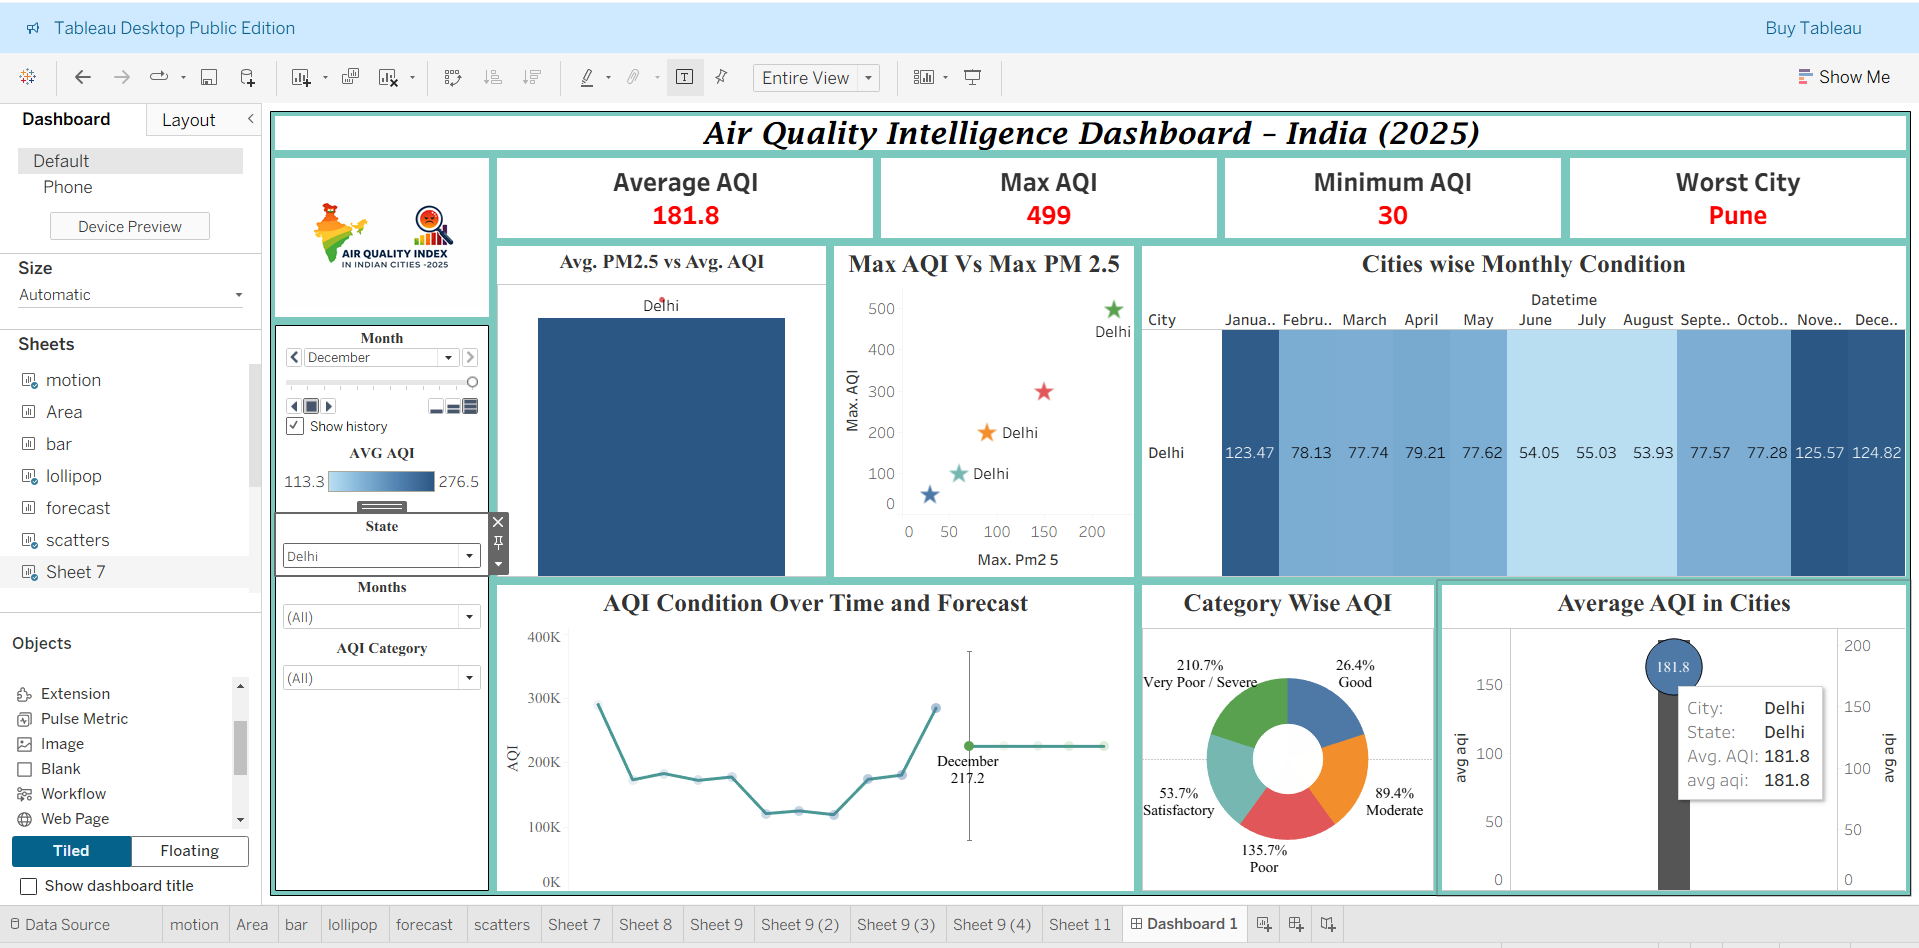

This screenshot's page, from the dashboard's own definition file:
{"tool":"tableau","page":{"name":"Dashboard 1","canvas":[1000,1000],"units":"permille","ordinal":0},"visuals":[{"type":"title","box":[5.4,11.2,989.1,52.4]},{"type":"image","param":"Image/ChatGPT Image Apr 19, 2026, 03_58_22 PM.png","box":[5.4,63.7,133.8,209.1]},{"type":"worksheet","title":"Sheet 9","mark":"Automatic","box":[139.2,63.7,232.1,109.9]},{"type":"worksheet","title":"Sheet 9 (2)","mark":"Automatic","box":[371.3,63.7,207.7,109.9]},{"type":"worksheet","title":"Sheet 9 (4)","mark":"Text","box":[579,63.7,207.8,109.9]},{"type":"worksheet","title":"Sheet 9 (3)","mark":"Text","box":[786.8,63.7,207.8,109.9]},{"type":"worksheet","title":"Sheet 7","mark":"Automatic","rows":["PM2_5","AQI"],"cols":["state"],"box":[139.2,173.6,203.7,423.6]},{"type":"worksheet","title":"scatters","mark":"Automatic","rows":["AQI"],"cols":["PM2_5"],"box":[343,173.6,185.7,423.6]},{"type":"worksheet","title":"Sheet 8","mark":"Square","rows":["city"],"cols":["datetime"],"box":[528.6,173.6,465.9,423.6]},{"type":"currpage","title":"motion","box":[8.4,279,127.8,143.6]},{"type":"legend","title":"Sheet 8","param":"[federated.19svdyv0bliaqp168vqvb1hg3psa].[usr:Calculation_7468094104119091200:qk","box":[8.4,422.6,127.8,91.1]},{"type":"filter","title":"Sheet 7","param":"[federated.19svdyv0bliaqp168vqvb1hg3psa].[none:state:nk]","box":[8.4,513.7,127.8,76.2]},{"type":"filter","title":"Sheet 7","param":"[federated.19svdyv0bliaqp168vqvb1hg3psa].[mn:datetime:ok]","box":[8.4,589.9,127.8,76.2]},{"type":"worksheet","title":"motion","mark":"Circle","rows":["AQI"],"cols":["datetime"],"box":[139.2,597.2,389.4,391.6]},{"type":"worksheet","title":"Sheet 11","mark":"Automatic","rows":["Calculation_8352207006634676227","Calculation_8352207006634688517"],"box":[528.6,597.2,180.8,391.6]},{"type":"worksheet","title":"lollipop","mark":"Bar","rows":["Calculation_7468094104119091200","Calculation_7468094104119091200"],"cols":["city"],"box":[709.5,597.2,285.1,391.6]},{"type":"filter","title":"Sheet 7","param":"[federated.19svdyv0bliaqp168vqvb1hg3psa].[none:AQI_Category:nk]","box":[8.4,666,127.8,76.2]}]}

Visuals, with their boxes on the dashboard's canvas, which has no fixed pixel size, in thousandths of its width and height (x1, y1, x2, y2). These are canvas units, not pixel positions in the 1919x948 screenshot, which may show the page scaled, cropped or inside an application window:
title: [left=5, top=11, right=994, bottom=64]
image: [left=5, top=64, right=139, bottom=273]
"Sheet 9" worksheet: [left=139, top=64, right=371, bottom=174]
"Sheet 9 (2)" worksheet: [left=371, top=64, right=579, bottom=174]
"Sheet 9 (4)" worksheet (Text marks): [left=579, top=64, right=787, bottom=174]
"Sheet 9 (3)" worksheet (Text marks): [left=787, top=64, right=995, bottom=174]
"Sheet 7" worksheet: [left=139, top=174, right=343, bottom=597]
"scatters" worksheet: [left=343, top=174, right=529, bottom=597]
"Sheet 8" worksheet (Square marks): [left=529, top=174, right=994, bottom=597]
"motion" currpage: [left=8, top=279, right=136, bottom=423]
"Sheet 8" legend: [left=8, top=423, right=136, bottom=514]
"Sheet 7" filter: [left=8, top=514, right=136, bottom=590]
"Sheet 7" filter: [left=8, top=590, right=136, bottom=666]
"motion" worksheet (Circle marks): [left=139, top=597, right=529, bottom=989]
"Sheet 11" worksheet: [left=529, top=597, right=709, bottom=989]
"lollipop" worksheet (Bar marks): [left=710, top=597, right=995, bottom=989]
"Sheet 7" filter: [left=8, top=666, right=136, bottom=742]
